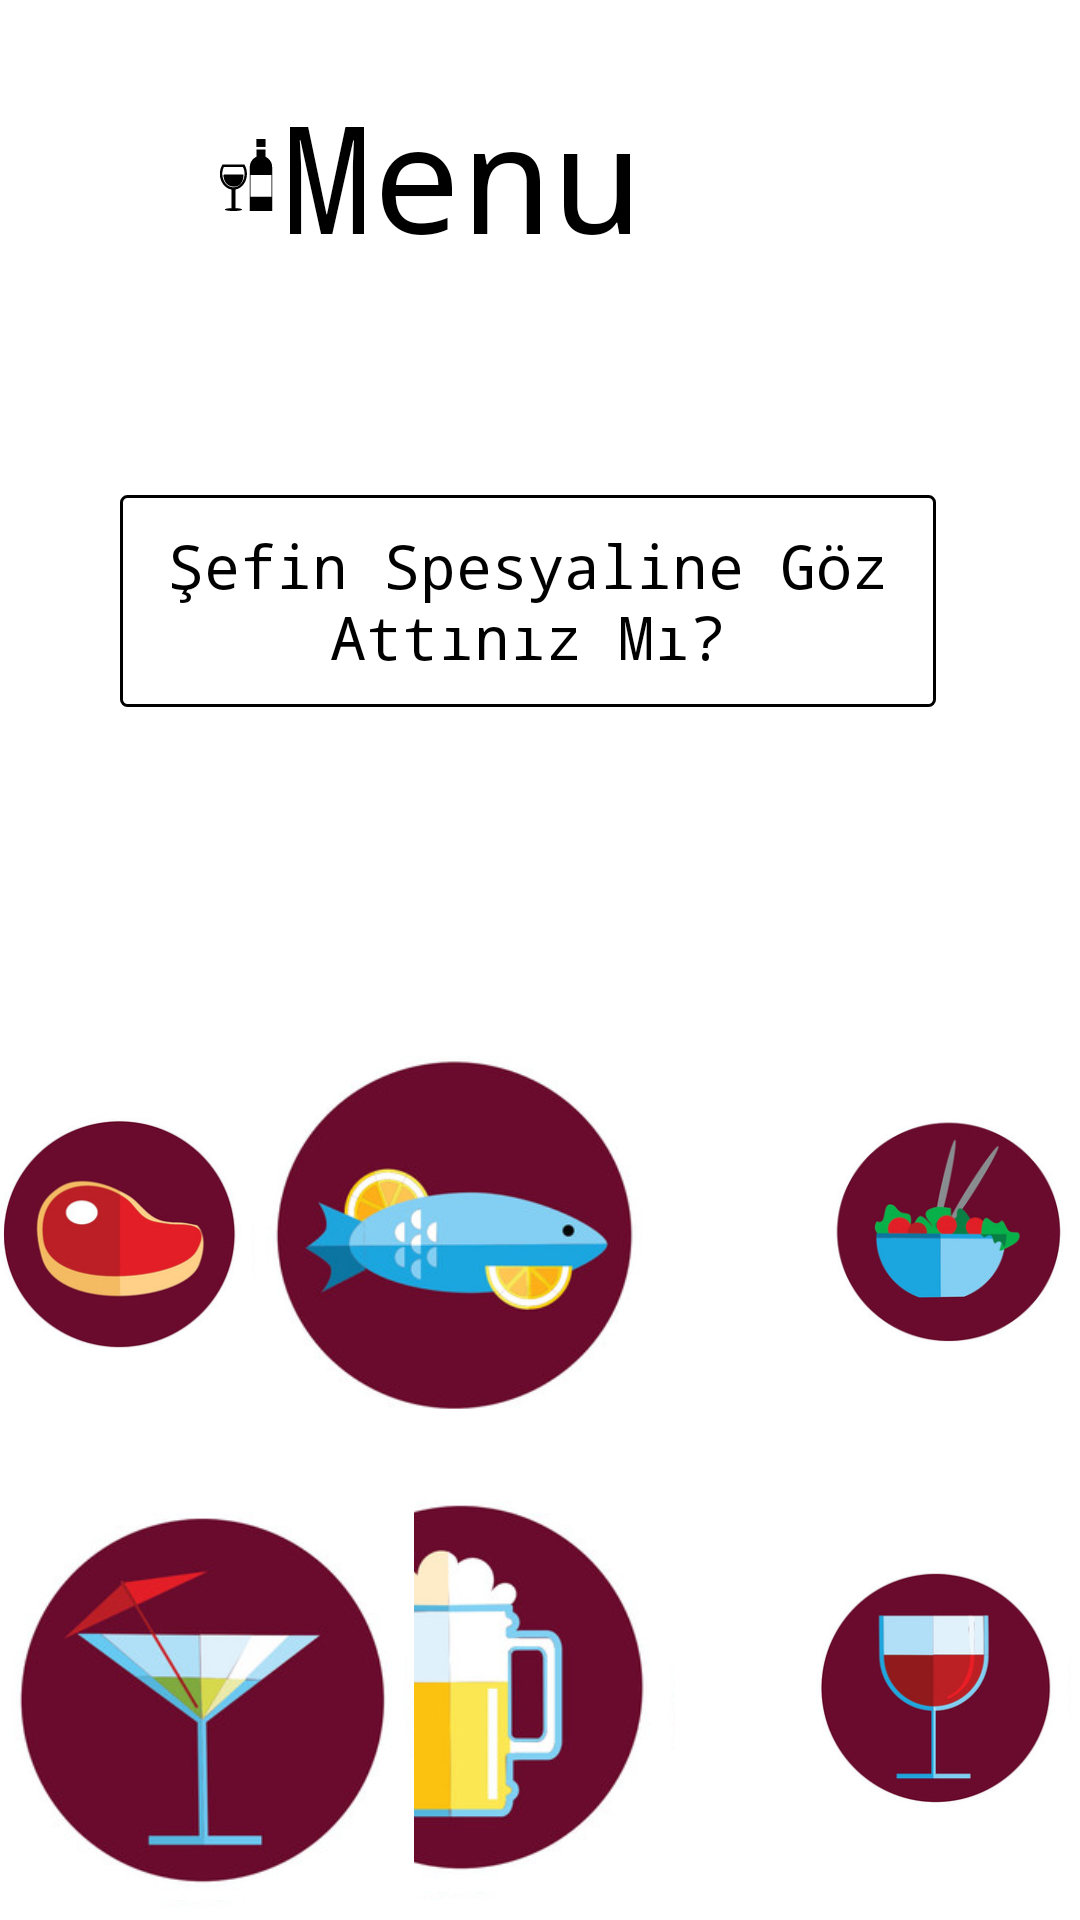

Locate icon controls on the screen. Image size 1080 x 1920, boxes as (x1, y1, x2, y2).
imagefish: (276, 1061, 633, 1409)
imagemeat: (4, 1121, 235, 1348)
imagesalad: (836, 1122, 1061, 1341)
imagewine: (821, 1573, 1051, 1803)
